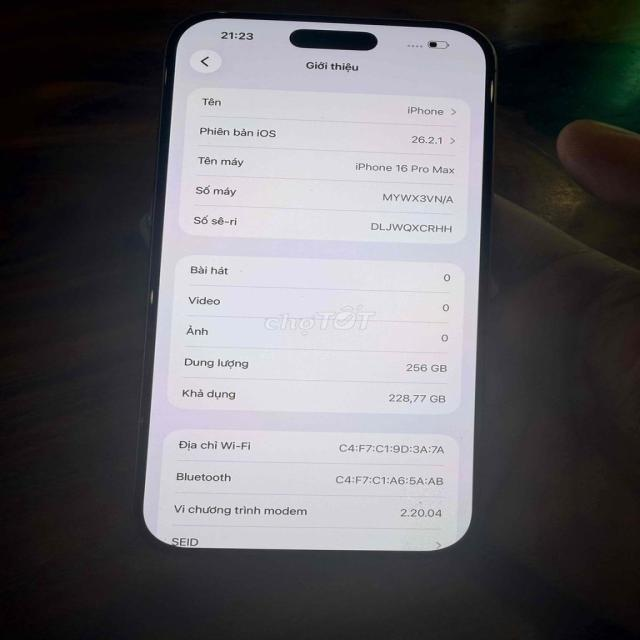gen_16: (137, 13, 494, 552)
